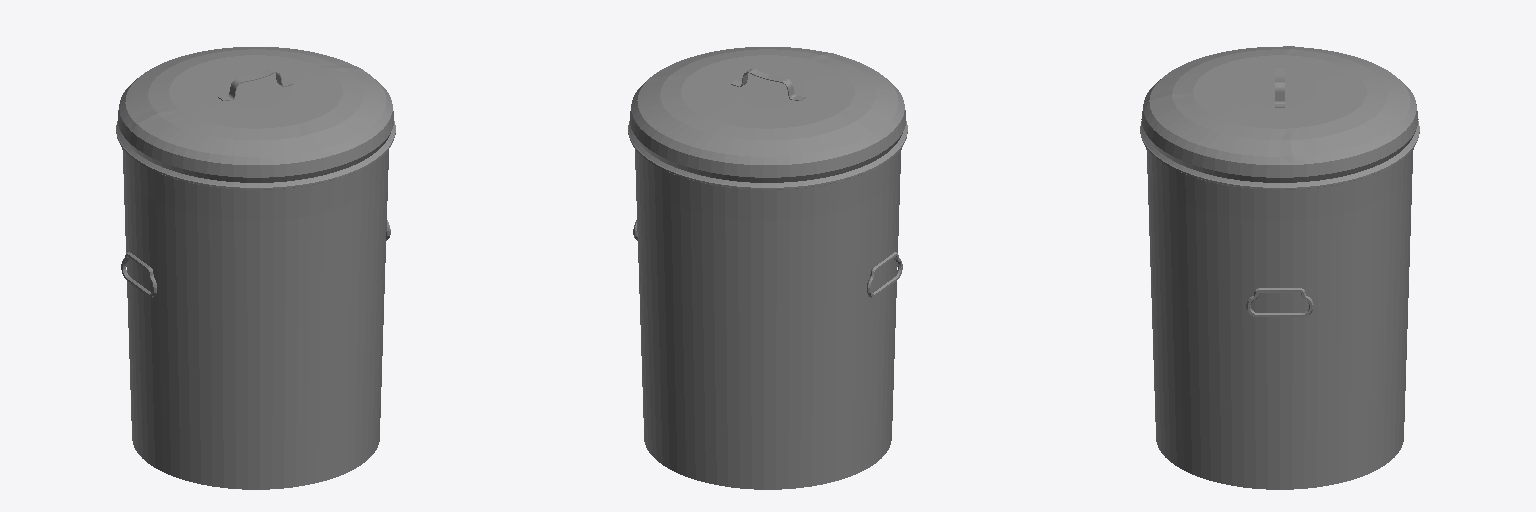
Rendered from trashcan_lod2.obj.
3 renders of one model, left to right at view 1: azimuth 30°, elevation 25°; view 2: azimuth 150°, elevation 25°; view 3: azimuth 270°, elevation 25°, orthographic.
Parts seen in each view (by area): view 1: trashcan_lod2; view 2: trashcan_lod2; view 3: trashcan_lod2.
Part boxes in pixels (bbox=[...]): trashcan_lod2: bbox=[116, 47, 395, 489]; trashcan_lod2: bbox=[628, 47, 907, 489]; trashcan_lod2: bbox=[1140, 46, 1419, 489].
Bounding box in the file's own units: 45.96 × 65.79 × 45.96.